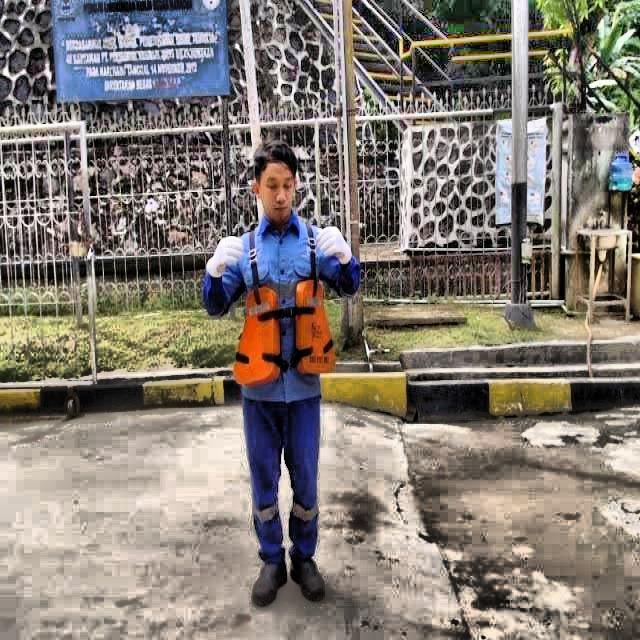safety_jacket: (234, 283, 338, 385)
